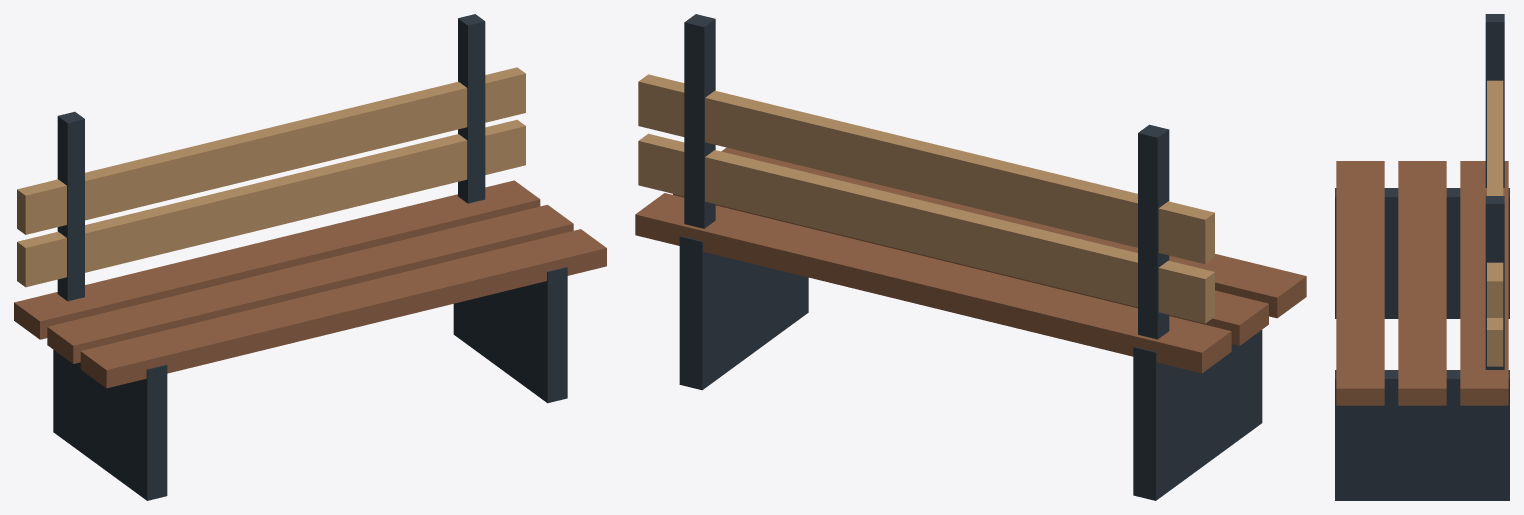
Rendered from slatted-bench.glb.
3 renders of one model, left to right at view 1: azimuth 30°, elevation 25°; view 2: azimuth 150°, elevation 25°; view 3: azimuth 270°, elevation 25°, orthographic. The views are drawn at different scales.
Visible parts, largest first — view 1: slatted-bench; view 2: slatted-bench; view 3: slatted-bench.
Part boxes in pixels (left/top/right/bottom): slatted-bench: left=14, top=14, right=606, bottom=500; slatted-bench: left=635, top=14, right=1306, bottom=500; slatted-bench: left=1335, top=14, right=1509, bottom=500.
Bounding box in the file's own units: 2 × 1.22 × 0.65.
